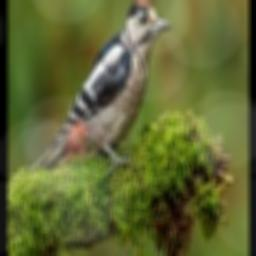Woodpecker: (30, 0, 171, 173)
